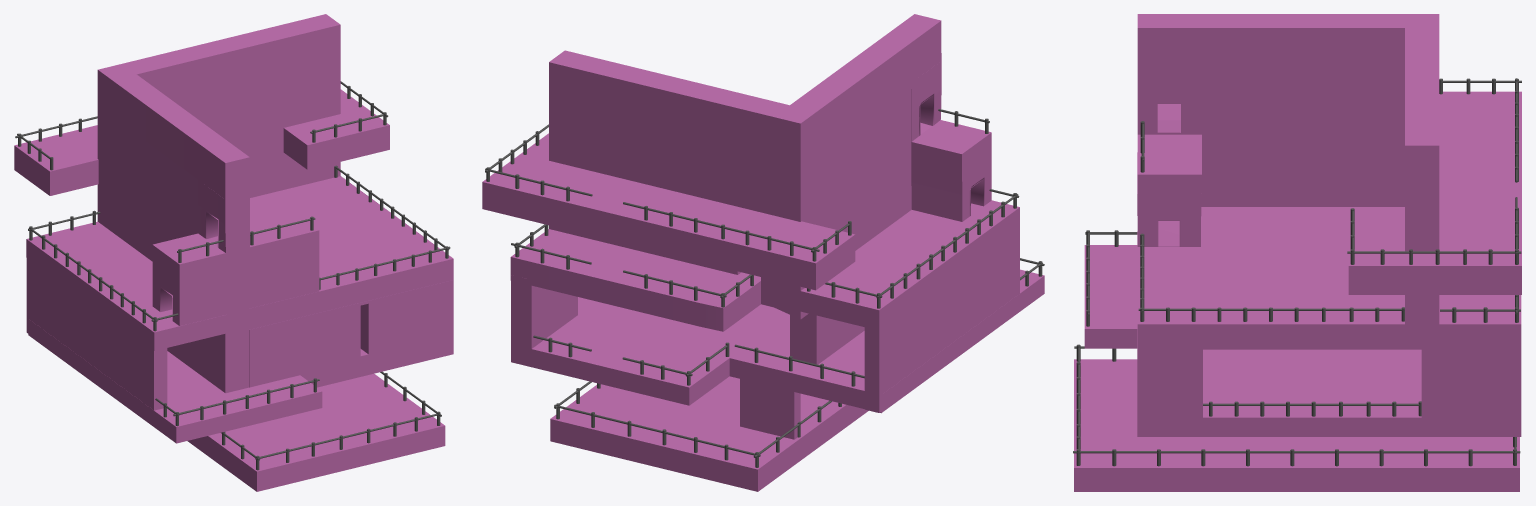
The model's file is Stage002_mainMap.fbx.
3 renders of one model, left to right at view 1: azimuth 30°, elevation 25°; view 2: azimuth 150°, elevation 25°; view 3: azimuth 270°, elevation 25°, orthographic. The views are drawn at different scales.
Parts seen in each view (by area): view 1: mainMap, fence_Combine; view 2: mainMap, fence_Combine; view 3: mainMap, fence_Combine.
Boxes of the visible parts, x1,y1,x2,y2 form: mainMap: (14,14,453,491); fence_Combine: (15,81,450,470); mainMap: (482,14,1044,491); fence_Combine: (485,109,1044,467); mainMap: (1074,14,1521,491); fence_Combine: (1073,78,1521,466).
Size of the model in its own units: 44.99 by 40.88 by 45.35.
